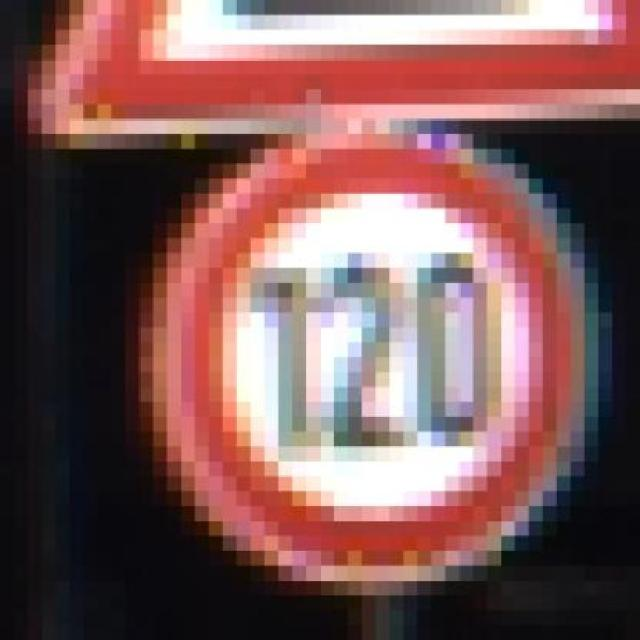forb_speed_over_120: (165, 138, 577, 574)
